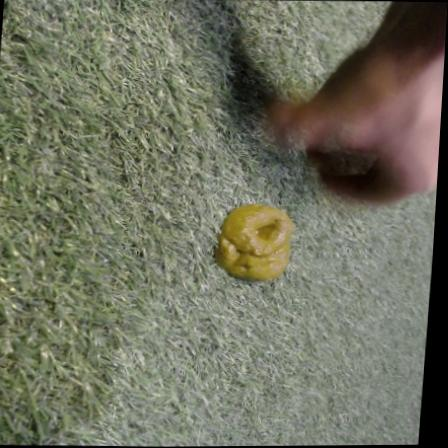dog-poop: (221, 207, 307, 280)
